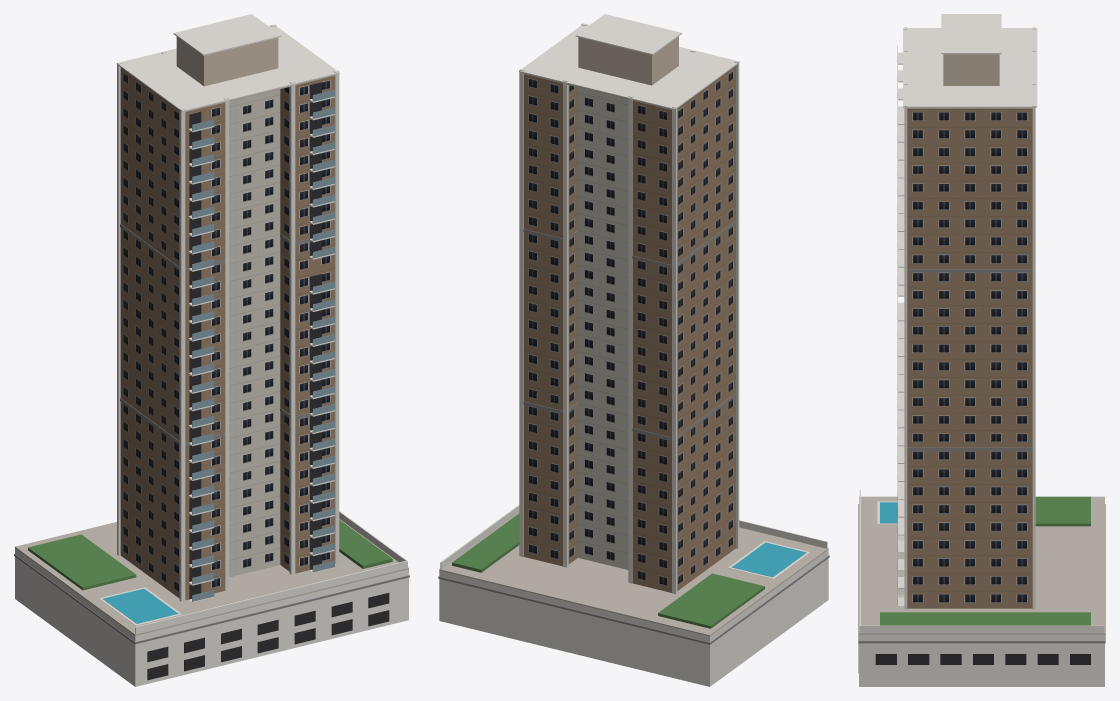
File: predio.glb
3 renders of one model, left to right at view 1: azimuth 30°, elevation 25°; view 2: azimuth 150°, elevation 25°; view 3: azimuth 270°, elevation 25°, orthographic. The views are drawn at different scales.
Parts seen in each view (by area): view 1: predio_f_bege, predio_branco, predio_f_branca, predio_escuro, predio_vidro, predio_deck, predio_verde, predio_bege, predio_cinza, predio_agua; view 2: predio_f_bege, predio_branco, predio_f_branca, predio_deck, predio_verde, predio_bege, predio_cinza, predio_agua; view 3: predio_f_bege, predio_branco, predio_deck, predio_verde, predio_cinza, predio_bege, predio_escuro, predio_vidro, predio_agua.
Boxes of the visible parts, x1,y1,x2,y2 form: predio_f_bege: [120, 67, 334, 600]; predio_branco: [15, 14, 408, 686]; predio_f_branca: [229, 89, 280, 577]; predio_escuro: [147, 82, 389, 680]; predio_vidro: [192, 90, 334, 601]; predio_deck: [15, 519, 408, 635]; predio_verde: [28, 520, 392, 590]; predio_bege: [121, 36, 334, 112]; predio_cinza: [14, 224, 409, 644]; predio_agua: [103, 588, 178, 623]; predio_f_bege: [524, 66, 735, 592]; predio_branco: [439, 14, 828, 686]; predio_f_branca: [578, 87, 628, 569]; predio_deck: [439, 512, 828, 636]; predio_verde: [452, 513, 764, 628]; predio_bege: [524, 36, 735, 110]; predio_cinza: [438, 221, 829, 644]; predio_agua: [732, 542, 806, 577]; predio_f_bege: [907, 109, 1032, 608]; predio_branco: [859, 14, 1104, 686]; predio_deck: [859, 496, 1104, 634]; predio_verde: [880, 496, 1090, 625]; predio_cinza: [858, 269, 1105, 643]; predio_bege: [907, 54, 1032, 108]; predio_escuro: [858, 643, 1090, 672]; predio_vidro: [897, 46, 897, 605]; predio_agua: [880, 502, 897, 523].
Bounding box in the file's own units: 46.2 × 92.6 × 35.2.
10 materials, 2 textured.
